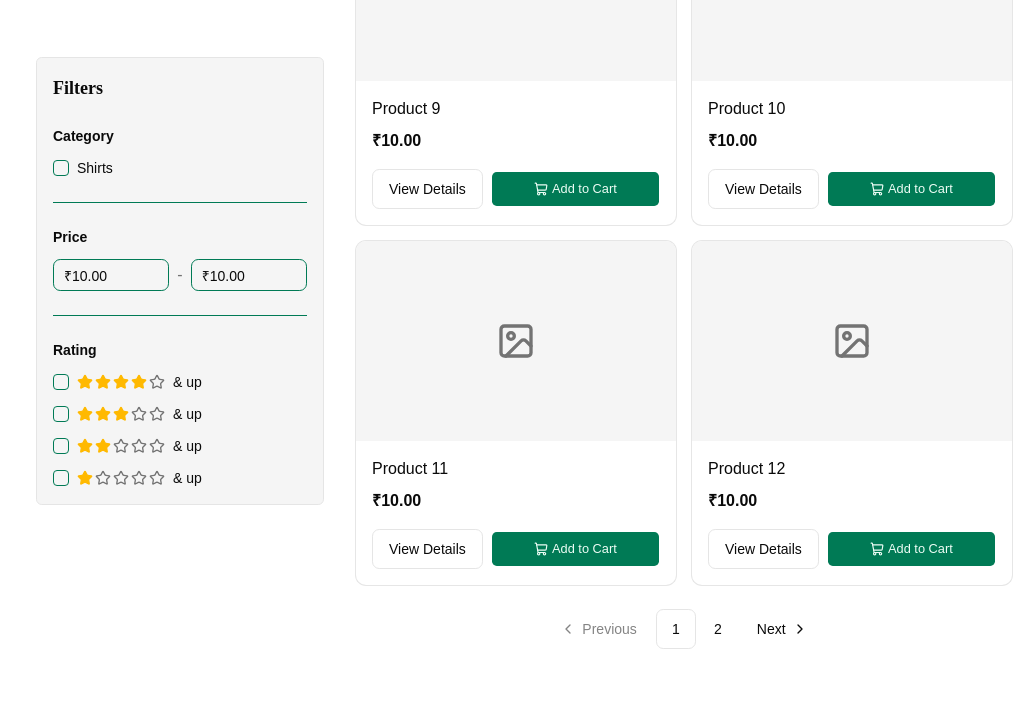
Test case: ProductCatalog › paginates the client-side-filtered set at PAGE_SIZE=12 and updates ?page=
(page scrolled)
Click the link "2". click: coordinates (718, 629)
box: top-left (714, 621), bottom-right (722, 637)
(page scrolled)
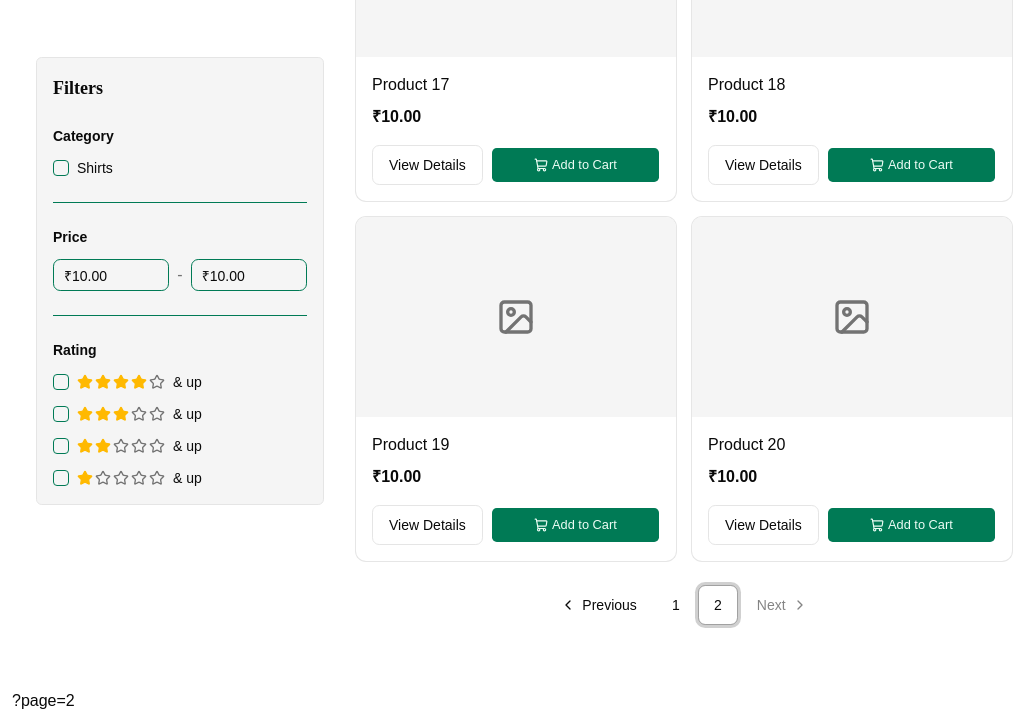
Expected: the heading "Product 20" is shown, top-left (708, 436), bottom-right (785, 453)
Expected: the text with test id "search-params-probe" shows "page=2", top-left (12, 692), bottom-right (75, 709)
